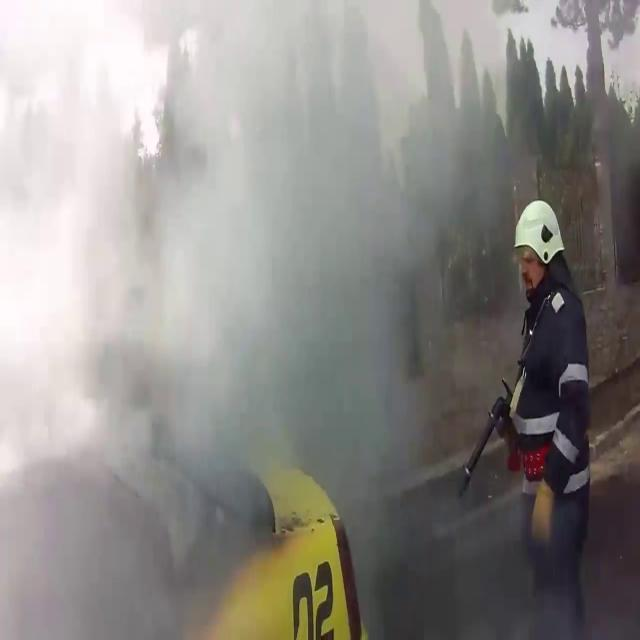Smoke: (0, 1, 527, 614)
